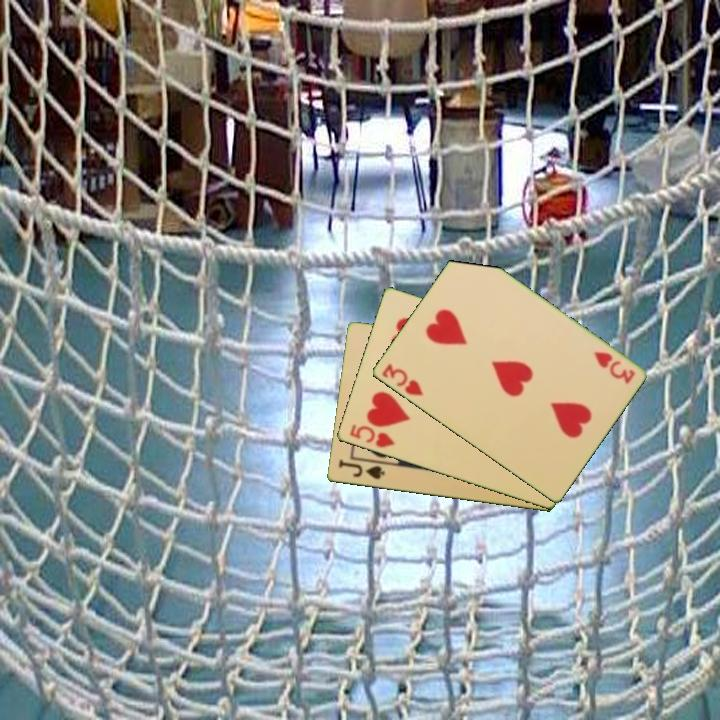3h: (378, 360, 427, 399), (590, 348, 638, 387)
5h: (345, 421, 397, 451)
Js: (335, 456, 387, 482)
